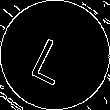L_NE: (30, 25, 80, 84)
